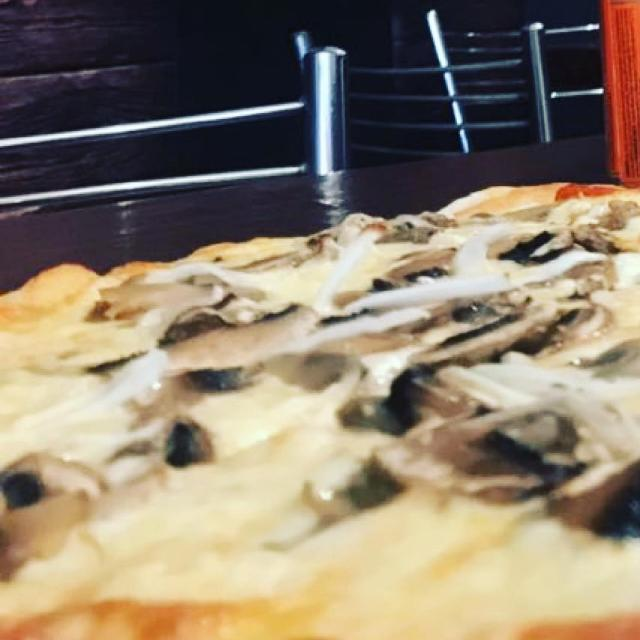mushrooms: (420, 407, 592, 485), (290, 452, 417, 526), (156, 287, 309, 347), (407, 304, 546, 370), (324, 242, 466, 305), (551, 453, 640, 552), (401, 278, 539, 341), (375, 360, 488, 424), (312, 310, 447, 360), (3, 452, 108, 514), (263, 346, 373, 401), (89, 275, 214, 322), (323, 385, 424, 438), (478, 221, 576, 270), (456, 467, 560, 513), (534, 302, 618, 357), (533, 256, 623, 305), (155, 412, 220, 476), (570, 200, 640, 256), (566, 334, 640, 386), (167, 362, 271, 398), (370, 212, 460, 251), (80, 339, 154, 381), (311, 304, 396, 332), (103, 432, 160, 465)
pizza: (0, 179, 640, 640)
